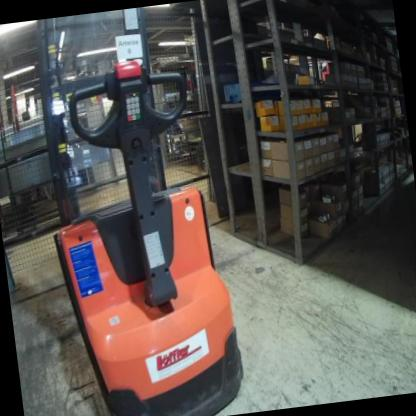pallet_truck: (21, 1, 249, 416)
small_load_carrier: (221, 81, 241, 100)
